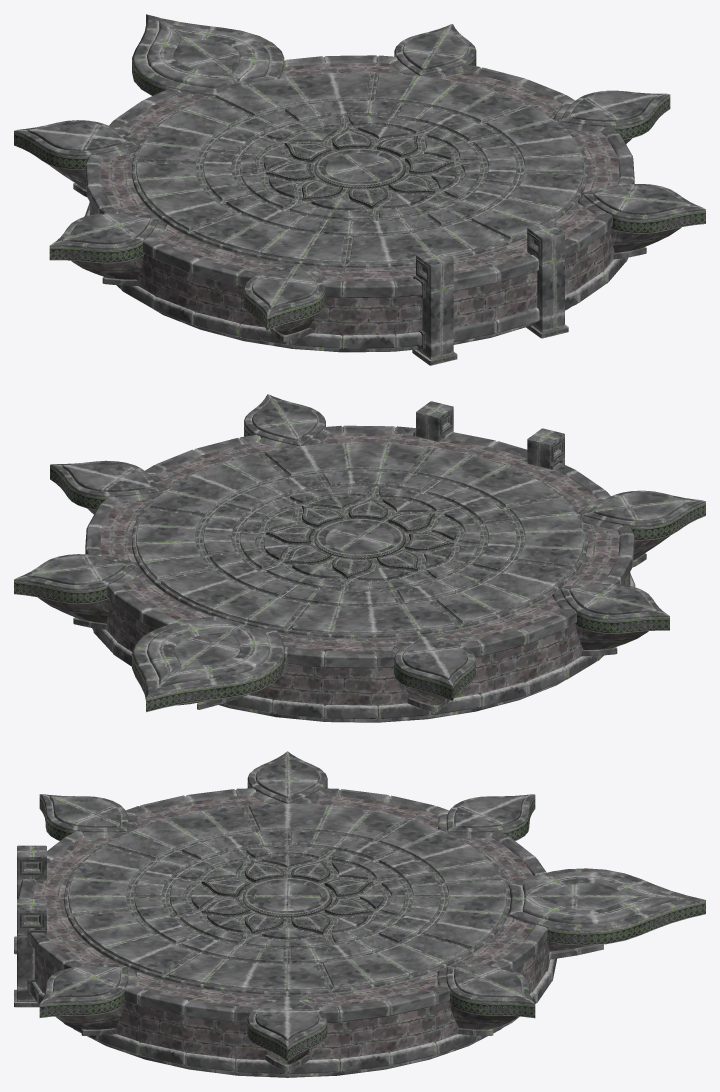
Rendered from tower_top.fbx.
3 views of the same model, one above another, from view 1: azimuth 30°, elevation 25°; view 2: azimuth 150°, elevation 25°; view 3: azimuth 270°, elevation 25° (orthographic). The views are drawn at different scales.
Parts seen in each view (by area): view 1: tower_top; view 2: tower_top; view 3: tower_top.
Boxes of the visible parts, left/top/right/bottom form: tower_top: left=14, top=14, right=705, bottom=365; tower_top: left=14, top=394, right=705, bottom=722; tower_top: left=14, top=751, right=705, bottom=1077.
Bounding box in the file's own units: 124 × 18.83 × 123.
